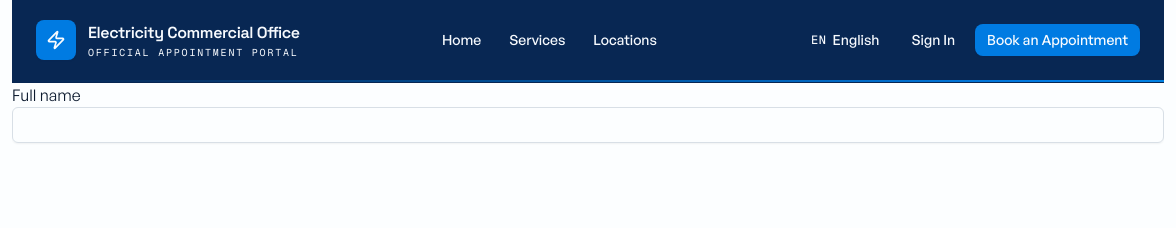
Test: Header language switching › switches to LTR for English
The width and height of the screenshot is (1176, 228).
What coordinates should you click on to do the following:
click the button with test id "header.language_button"
I would click on:
 (845, 40)
Its box is [799, 24, 891, 56].
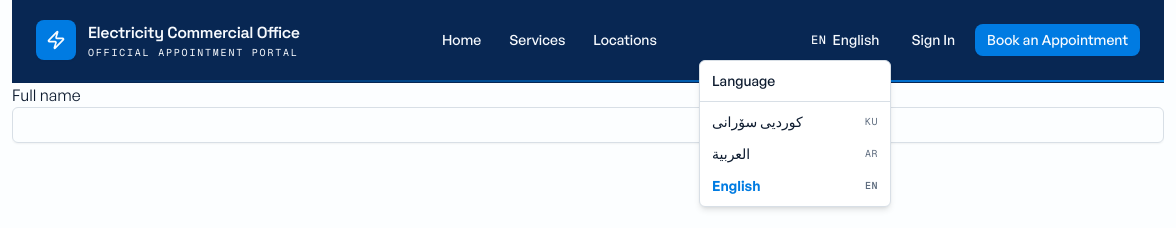
What coordinates should you click on to do the following:
click the menu item "العربية ar"
I would click on:
 (731, 154)
Its box is [712, 145, 878, 162].
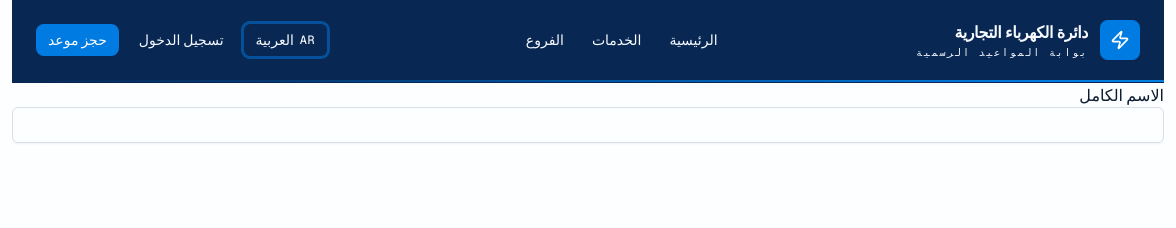
What coordinates should you click on to do the following:
click the button with test id "header.language_button"
I would click on:
 (285, 40)
Its box is [244, 24, 327, 56].
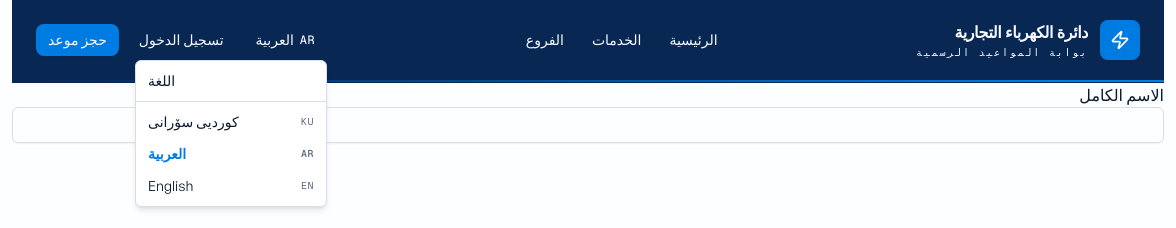
What coordinates should you click on to do the following:
click the menu item "English en"
I would click on:
 (171, 186)
Its box is [148, 177, 314, 194].
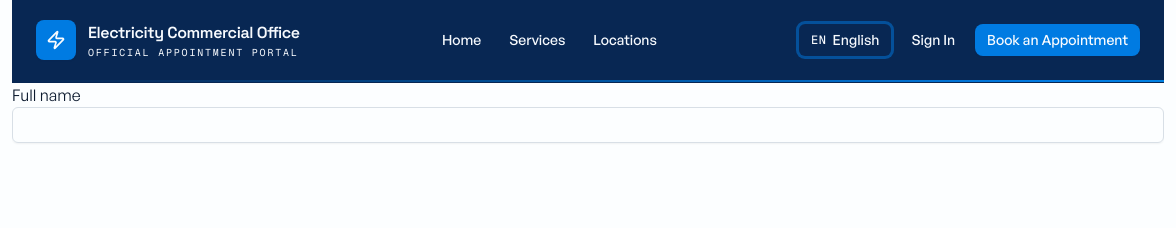
Result: the link with test id "header.nav.home" reads "Home" at [442, 31, 481, 48]
